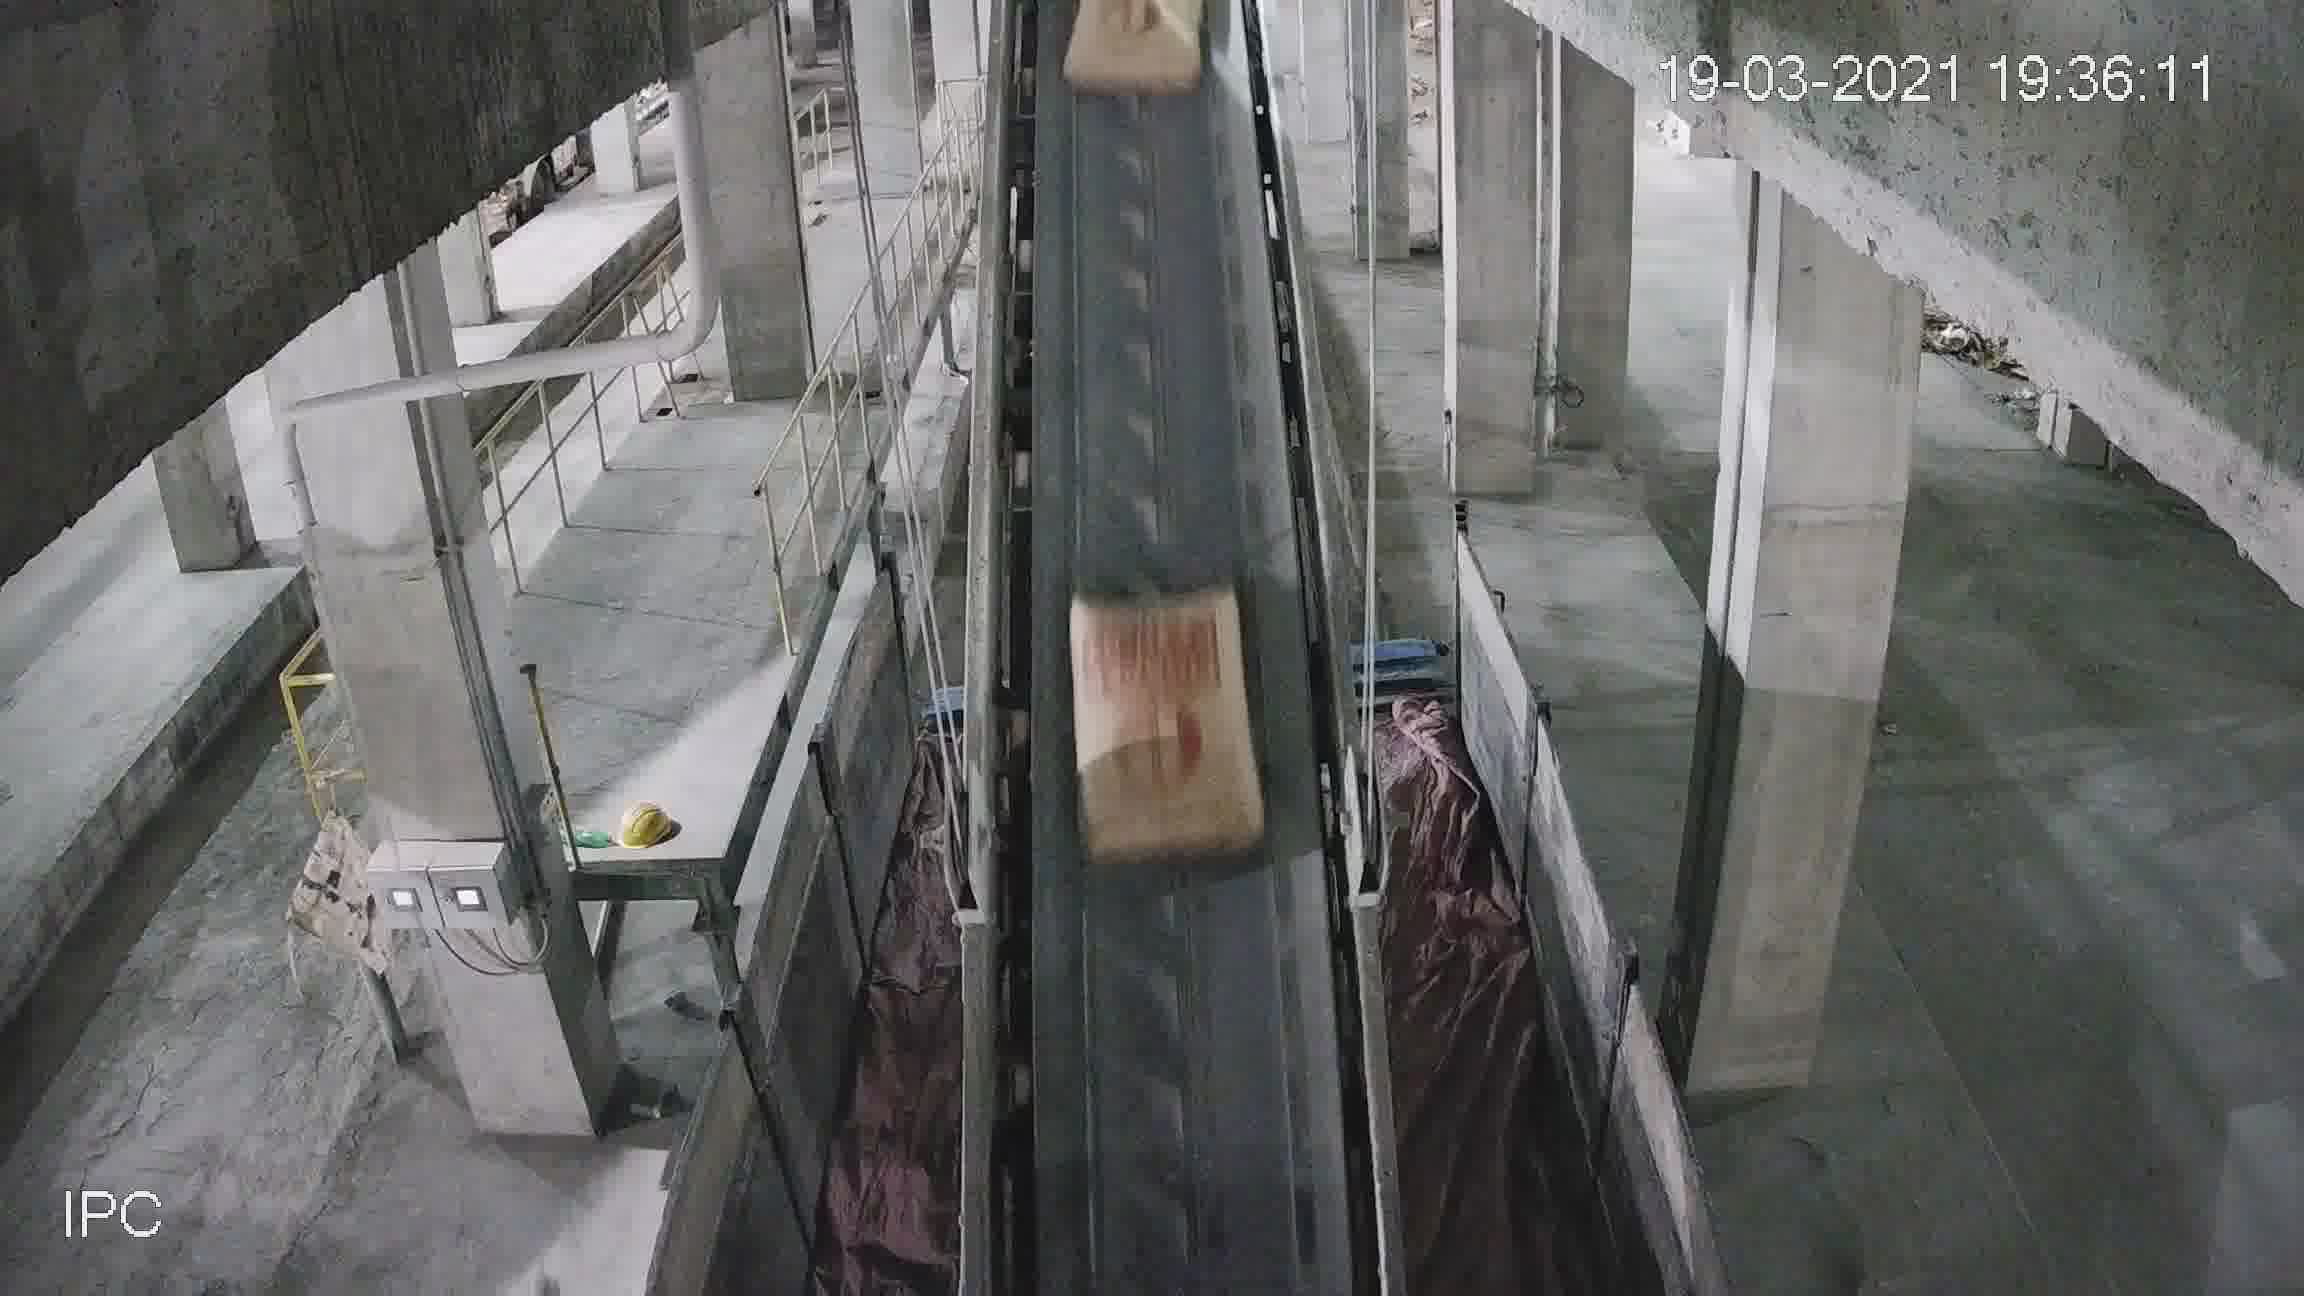bag: (1070, 595, 1258, 851), (1065, 9, 1206, 78)
belt: (954, 60, 1405, 1253)
